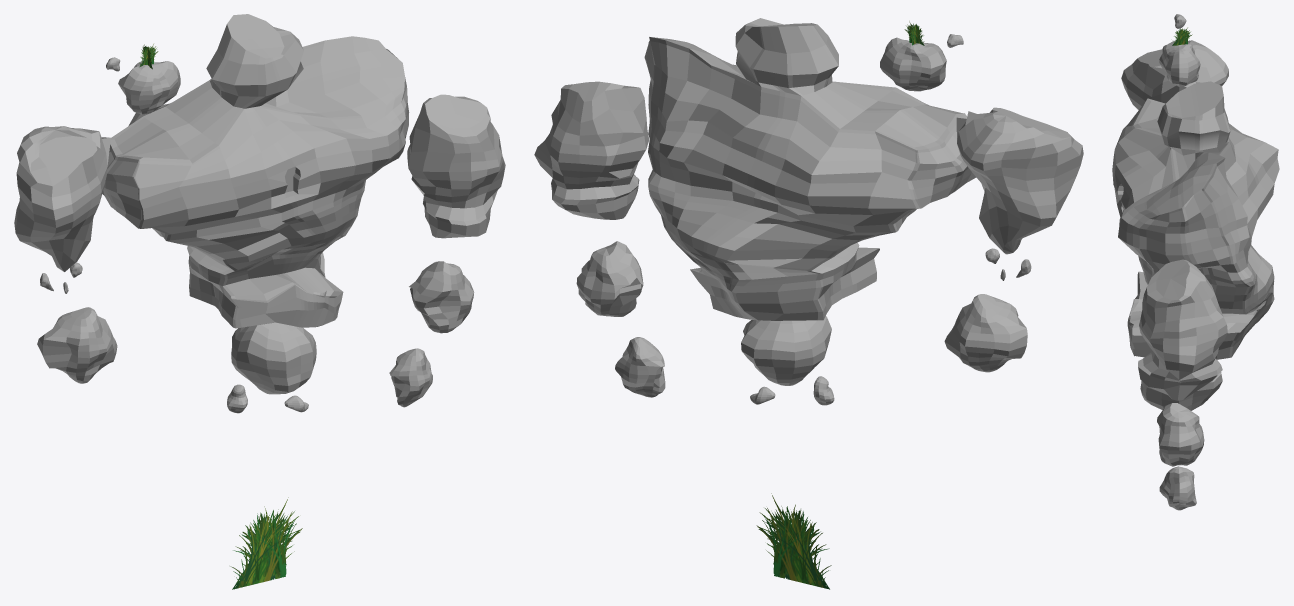
Rendered from bossModel9.fbx.
The picture shows the model from 3 angles, left to right: view 1: azimuth 30°, elevation 25°; view 2: azimuth 150°, elevation 25°; view 3: azimuth 270°, elevation 25°; orthographic projection. The views are drawn at different scales.
Parts seen in each view (by area): view 1: polySurface17, pPlane1; view 2: polySurface17, pPlane1; view 3: polySurface17.
Boxes of the visible parts, x1=… form: polySurface17: x1=14, y1=14, x2=505, y2=413; pPlane1: x1=230, y1=497, x2=302, y2=589; polySurface17: x1=534, y1=18, x2=1083, y2=405; pPlane1: x1=756, y1=493, x2=831, y2=589; polySurface17: x1=1112, y1=14, x2=1279, y2=510.
Bounding box in the file's own units: 6.06 × 6.64 × 2.01.
